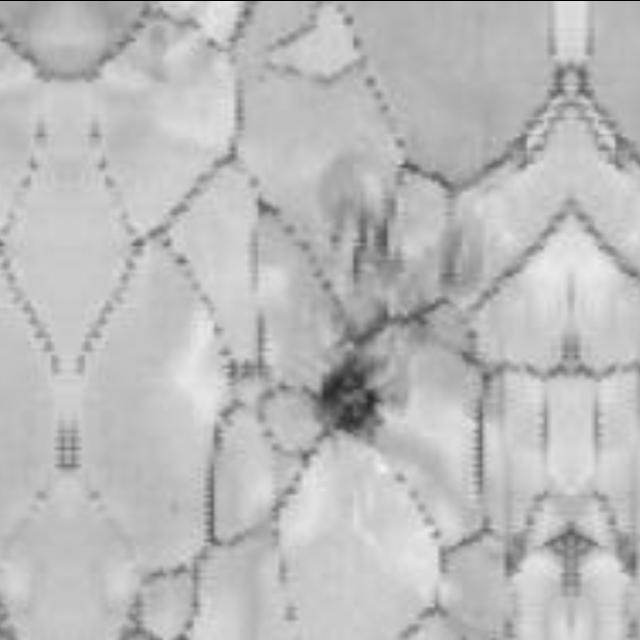good_void: (314, 343, 399, 443)
